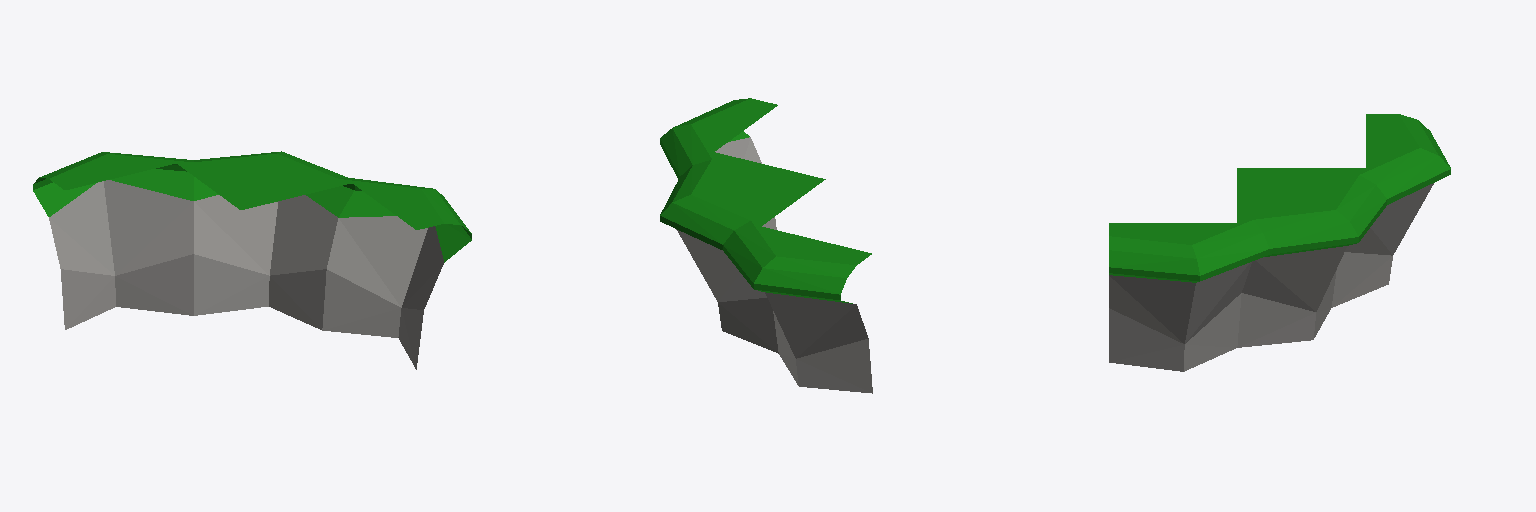
Rendered from Cliff_Terrain_Corner_Outer_3x3_Top.obj.
The picture shows the model from 3 angles: view 1: azimuth 30°, elevation 25°; view 2: azimuth 150°, elevation 25°; view 3: azimuth 270°, elevation 25°; orthographic projection.
Visible parts, largest first — view 1: object1; view 2: object1; view 3: object1.
Part boxes in pixels (left/top/right/bottom): object1: left=33, top=151, right=471, bottom=369; object1: left=660, top=98, right=872, bottom=393; object1: left=1109, top=114, right=1450, bottom=371.
Size of the model in its own units: 2.66 by 1.2 by 2.66.